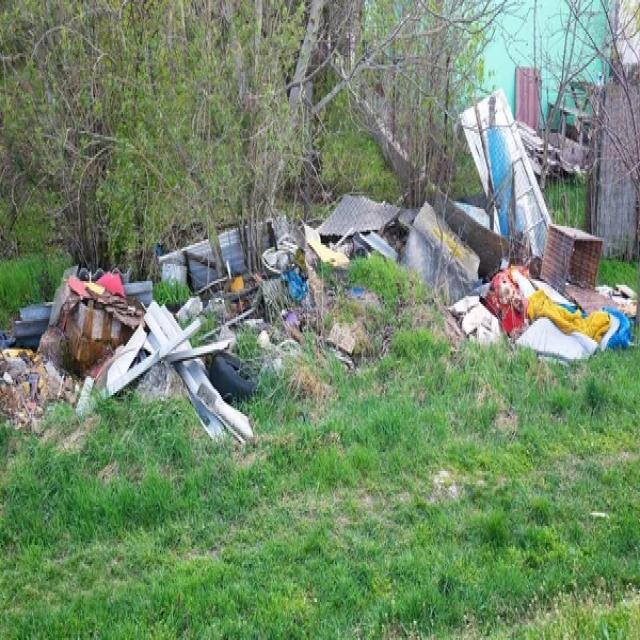garbage: (59, 195, 613, 419)
